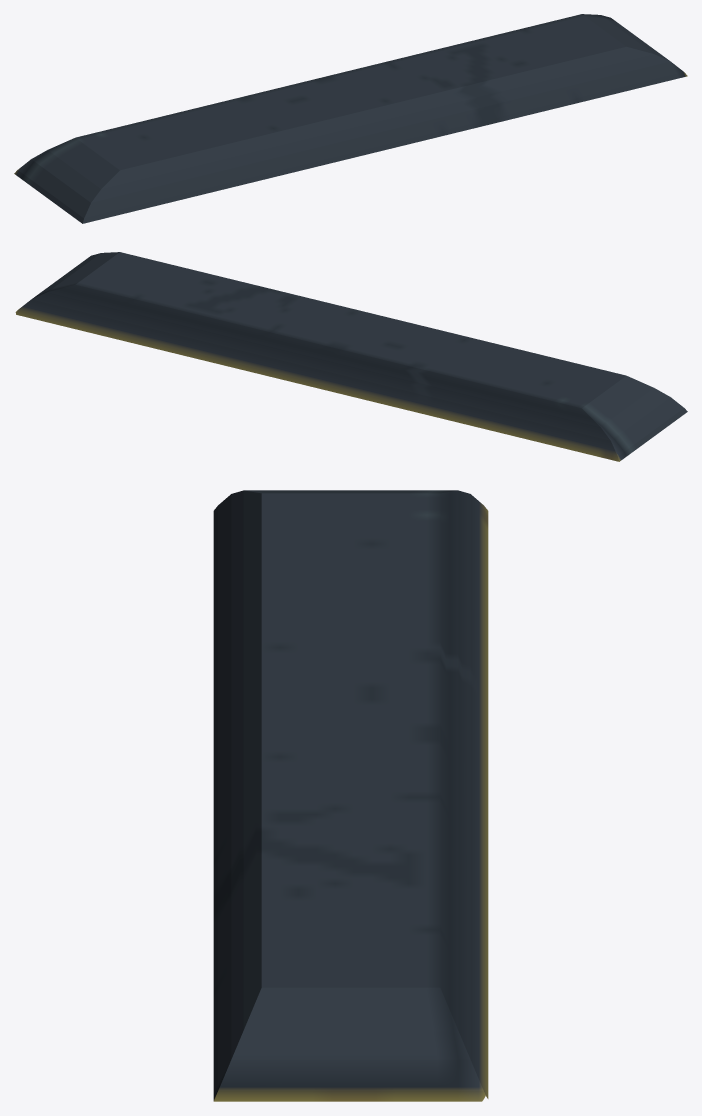
The model's file is light1.fbx.
3 renders of one model, top to bottom at view 1: azimuth 30°, elevation 25°; view 2: azimuth 150°, elevation 25°; view 3: azimuth 270°, elevation 25°, orthographic. The views are drawn at different scales.
Visible parts, largest first — view 1: 平面.012; view 2: 平面.012; view 3: 平面.012.
Part boxes in pixels (x1,y1,x2,y2): 平面.012: [14, 14, 687, 223]; 平面.012: [15, 252, 687, 461]; 平面.012: [213, 490, 488, 1101].
Size of the model in its own units: 137 by 7.1 by 26.94.
